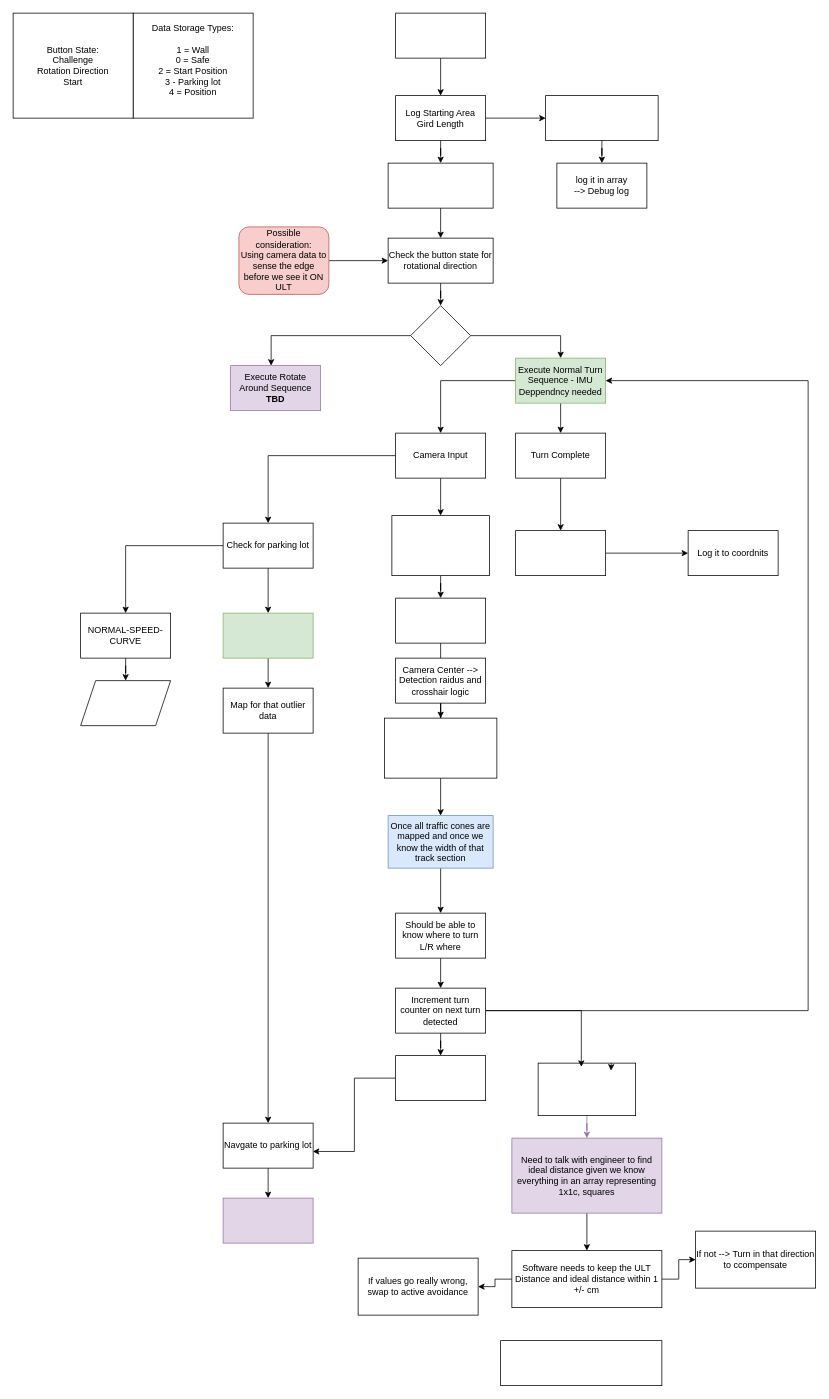
This 829x1399 diagram has some shape labels left out. Here are the shapes that lost their labels. From the top down, the centre of each, then its label:
At pixel 601 118: "Should be able to estimate the 'start grid' and the length of the quadrent".
At pixel 440 185: "Move slowly till left/right sensor detects a large change in value".
At pixel 440 545: "Find the relation of objects compared to the camera. Left / Center / Right".
At pixel 560 553: "Record the straight length".
At pixel 267 635: "SLOW-SPEED-CURVE".
At pixel 440 620: "Swerve Left --> Right".
At pixel 440 747: "Move left/right --> Detect which is closest. Overlay ULT data with camera data".
At pixel 440 1078: "On finish X laps".
At pixel 586 1089: "After First lap, should be able to estimate the coordinates/distances".
At pixel 267 1220: "Need to program the sequence of parking".
At pixel 581 1363: "Once full route known, can use AD to plan the paths".
